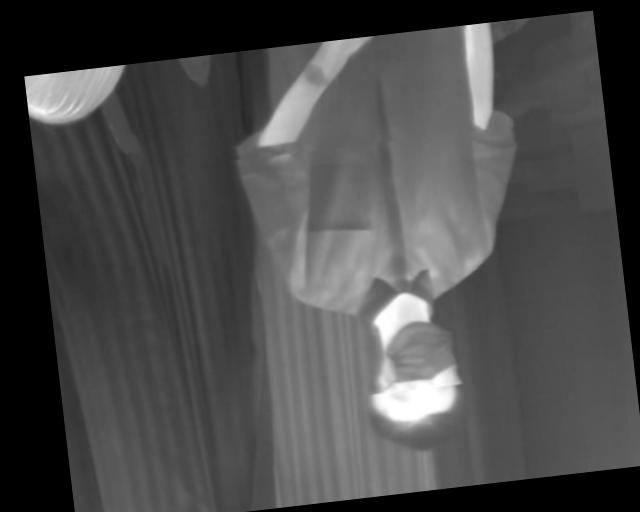face: (357, 317, 471, 458)
